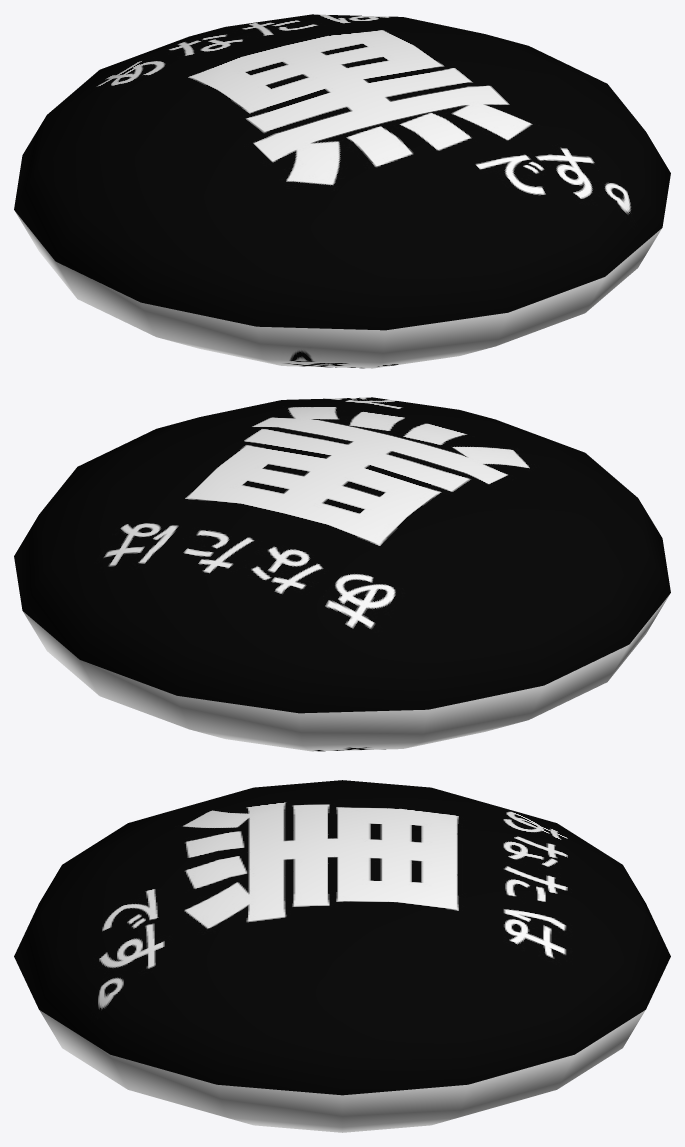
Rendered from nigiri.fbx.
3 renders of one model, top to bottom at view 1: azimuth 30°, elevation 25°; view 2: azimuth 150°, elevation 25°; view 3: azimuth 270°, elevation 25°, orthographic.
Parts seen in each view (by area): view 1: Dice; view 2: Dice; view 3: Dice.
Part boxes in pixels (left/top/right/bottom): Dice: left=14, top=14, right=670, bottom=368; Dice: left=14, top=397, right=670, bottom=751; Dice: left=14, top=780, right=670, bottom=1132.
Bounding box in the file's own units: 50 × 18.46 × 50.
